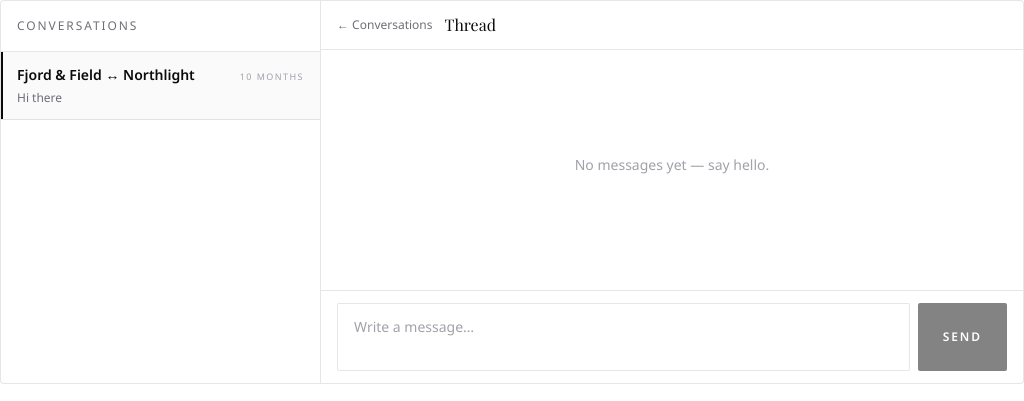
Test: PortalMessages › optimistically appends a sent message
The image size is (1024, 401).
In the text box with placeholder "Write a message…": (623, 337) [337, 303, 910, 371], type "Looks good"
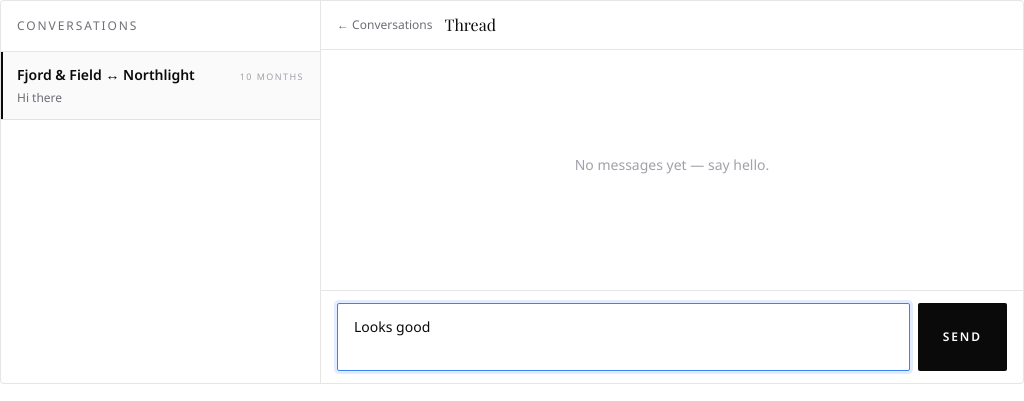
Click the button "Send": (962, 337) [918, 303, 1007, 371]
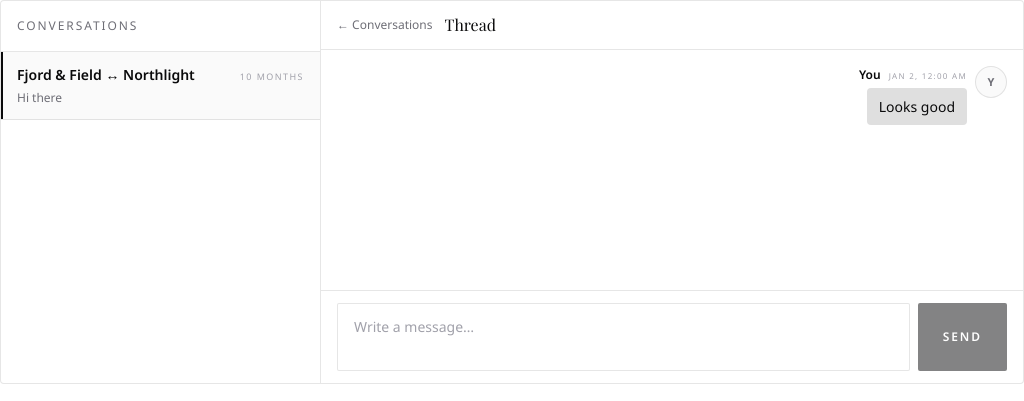
Now the text "Looks good" is shown, box [867, 88, 967, 125]
